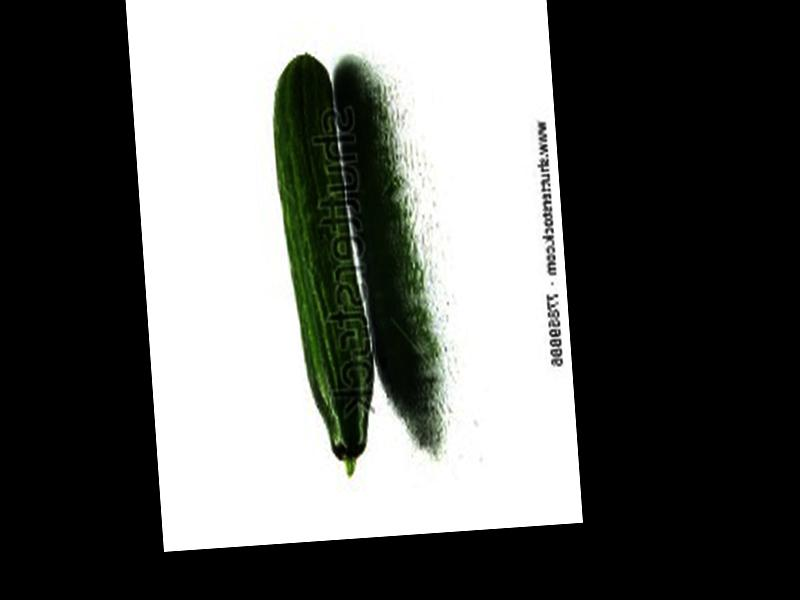Cucumber: (267, 54, 381, 478)
